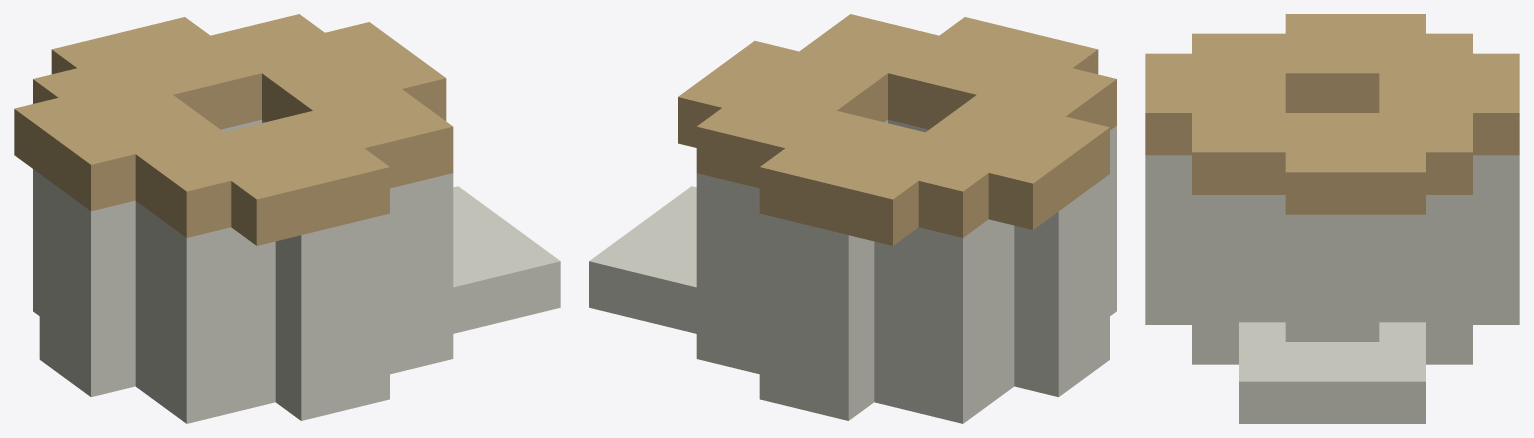
Rendered from bandage.glb.
The picture shows the model from 3 angles, left to right: view 1: azimuth 30°, elevation 25°; view 2: azimuth 150°, elevation 25°; view 3: azimuth 270°, elevation 25°; orthographic projection. The views are drawn at different scales.
Visible parts, largest first — view 1: body:woundRoll; view 2: body:woundRoll; view 3: body:woundRoll.
Boxes of the visible parts, x1,y1,x2,y2 form: body:woundRoll: (14,14,560,423); body:woundRoll: (589,14,1116,423); body:woundRoll: (1145,14,1519,423).
Size of the model in its own units: 0.1 by 0.05 by 0.08.
